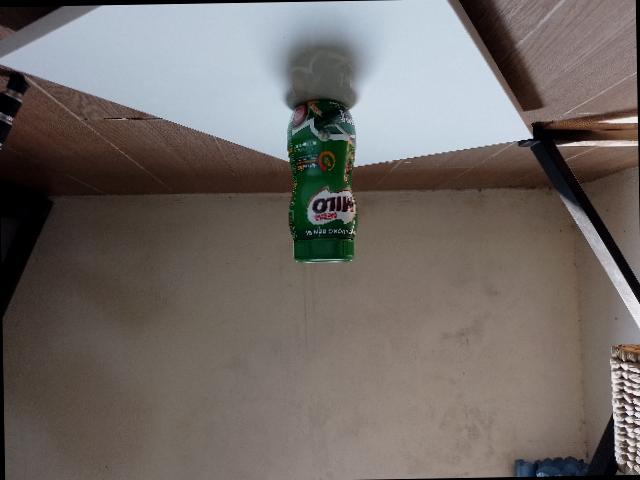milo: (286, 95, 357, 262)
